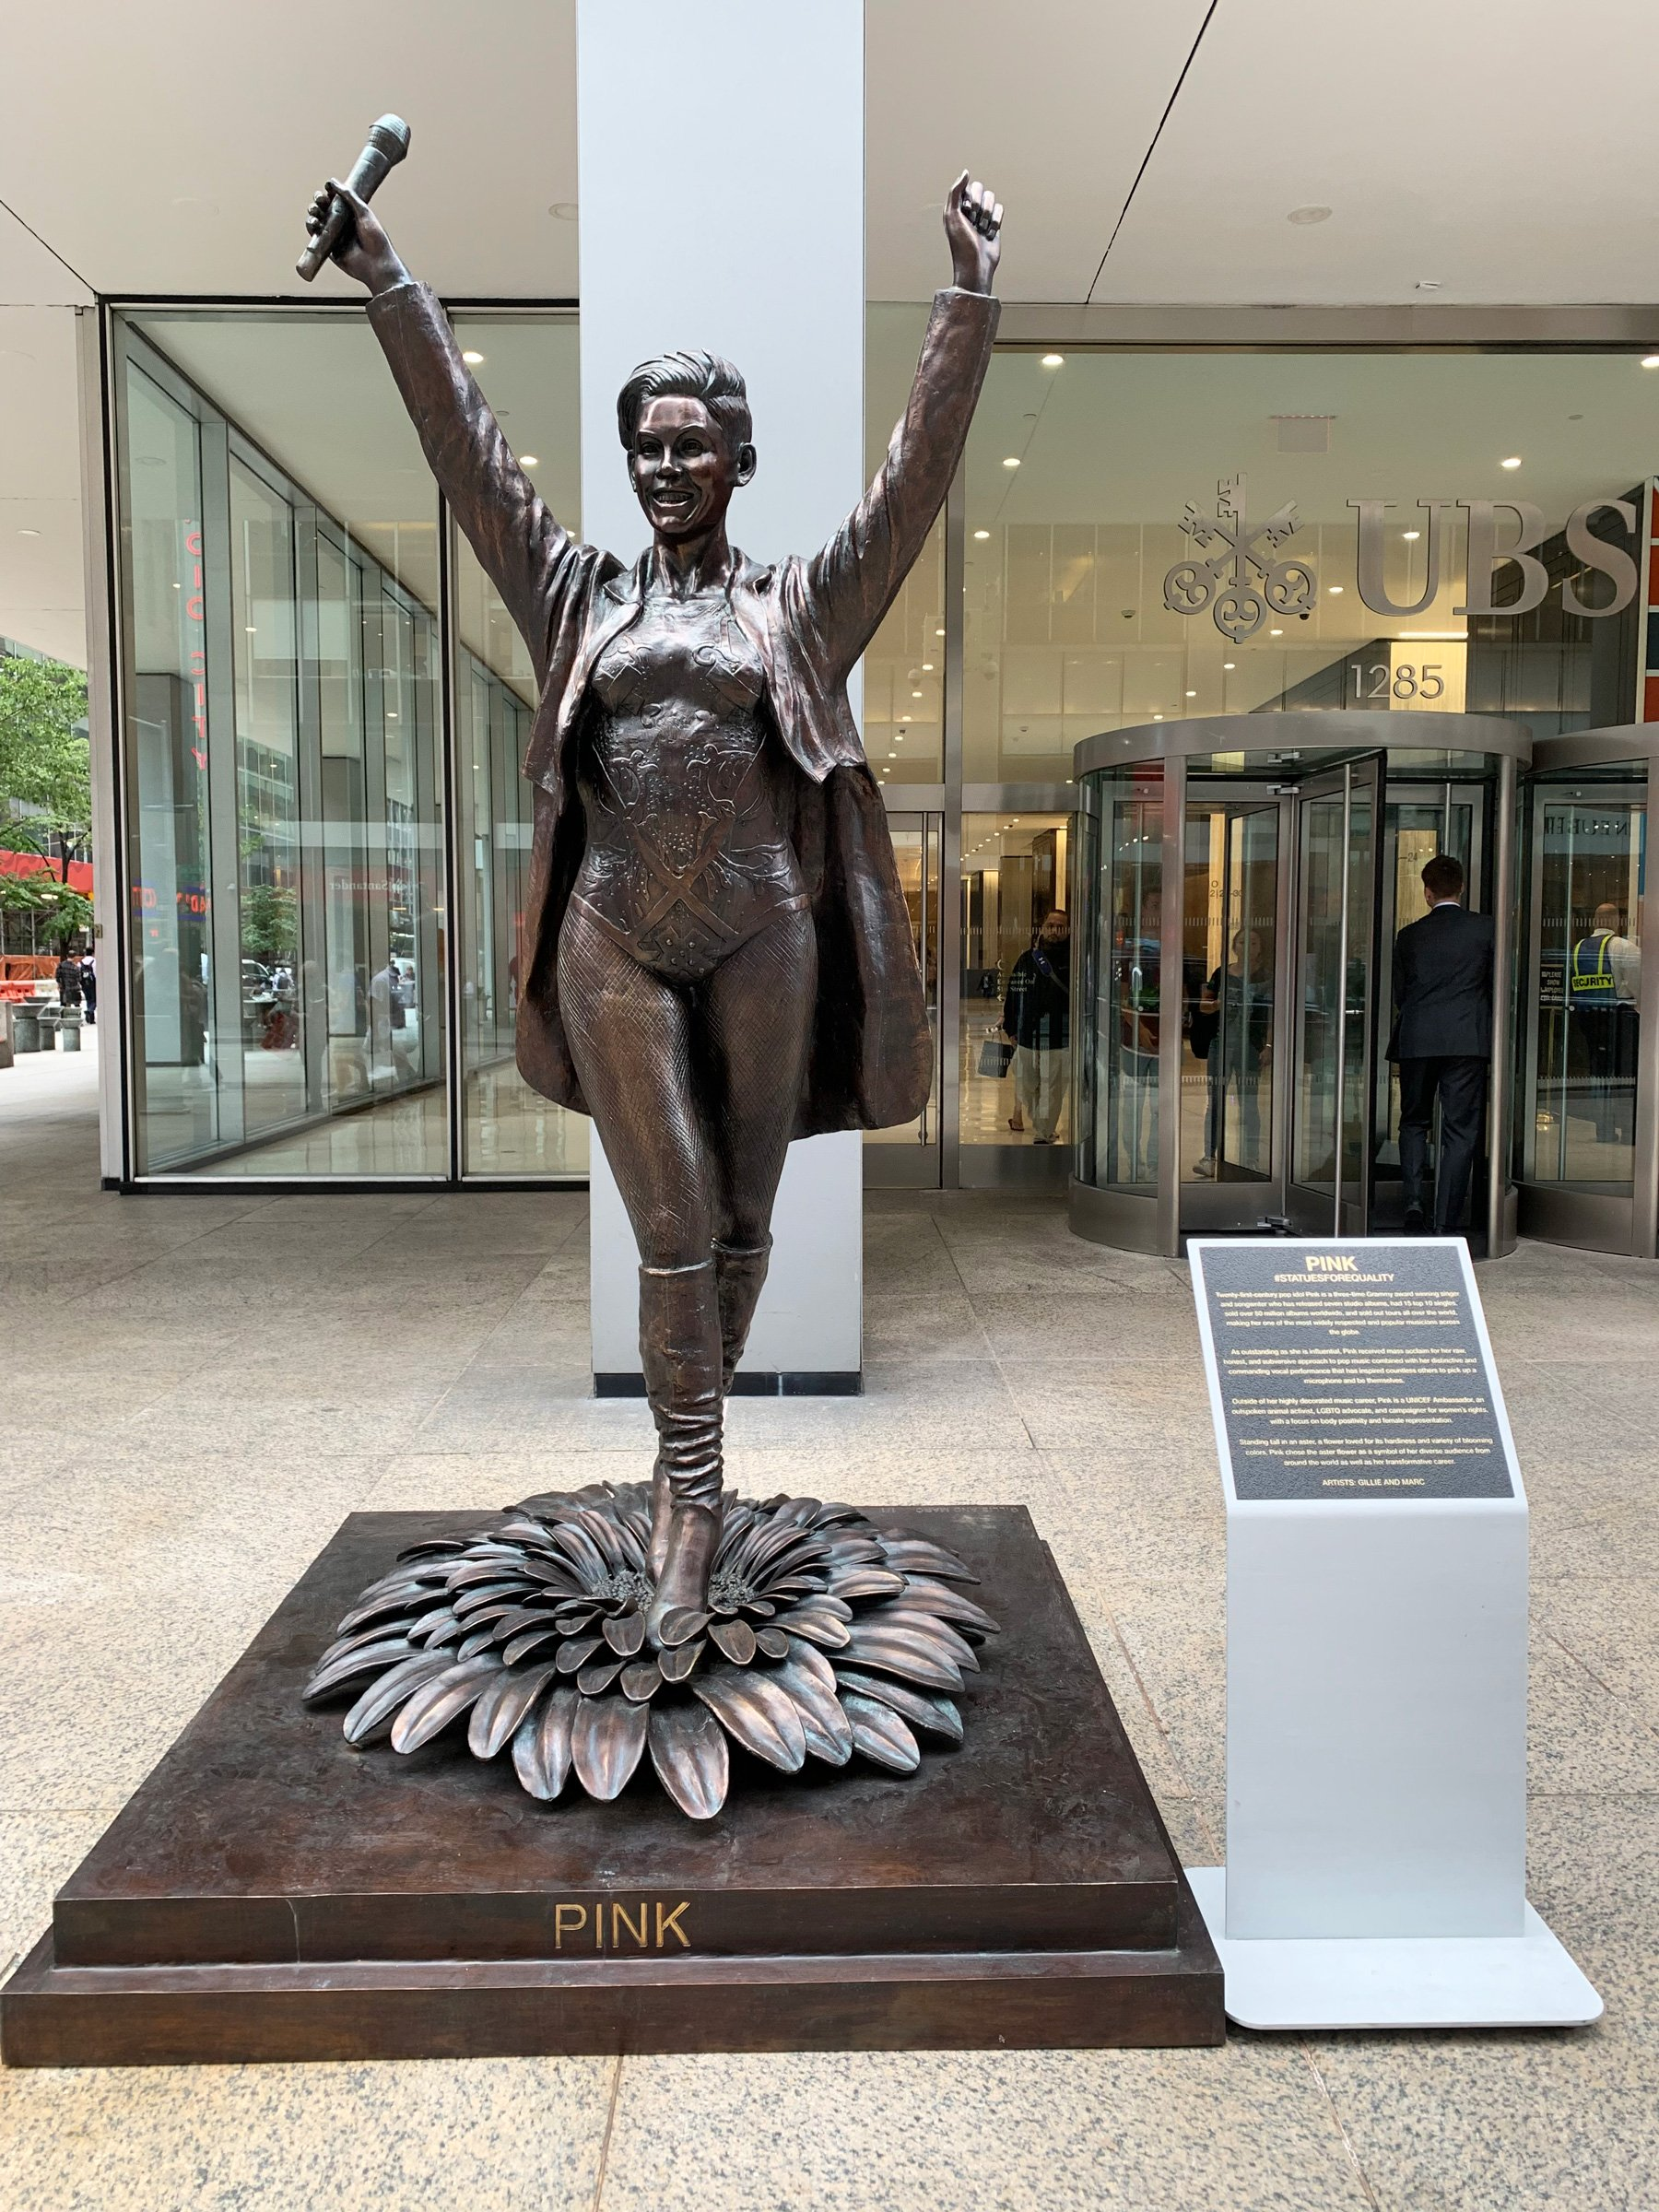person-like: (285, 79, 1040, 1639)
